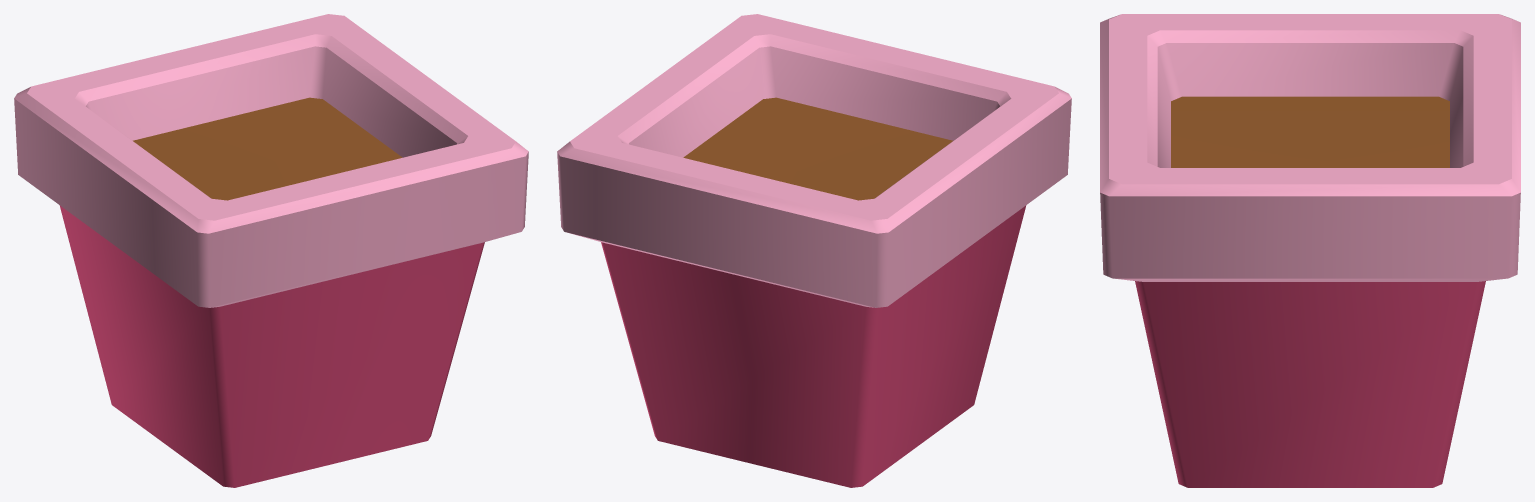
The model's file is PlantPot_1_E.glb.
The picture shows the model from 3 angles, left to right: view 1: azimuth 30°, elevation 25°; view 2: azimuth 150°, elevation 25°; view 3: azimuth 270°, elevation 25°; orthographic projection. The views are drawn at different scales.
Parts seen in each view (by area): view 1: PlantPot_1_E; view 2: PlantPot_1_E; view 3: PlantPot_1_E.
Part boxes in pixels (x1,y1,x2,y2): PlantPot_1_E: (14,14,528,487); PlantPot_1_E: (557,14,1071,487); PlantPot_1_E: (1100,14,1520,487).
Bounding box in the file's own units: 0.2748 × 0.24 × 0.2748.
1 material, 1 textured.
